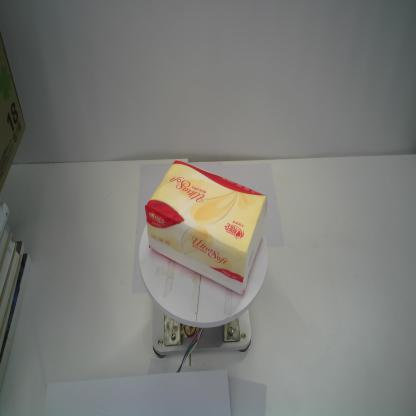Tissue: (144, 159, 268, 296)
